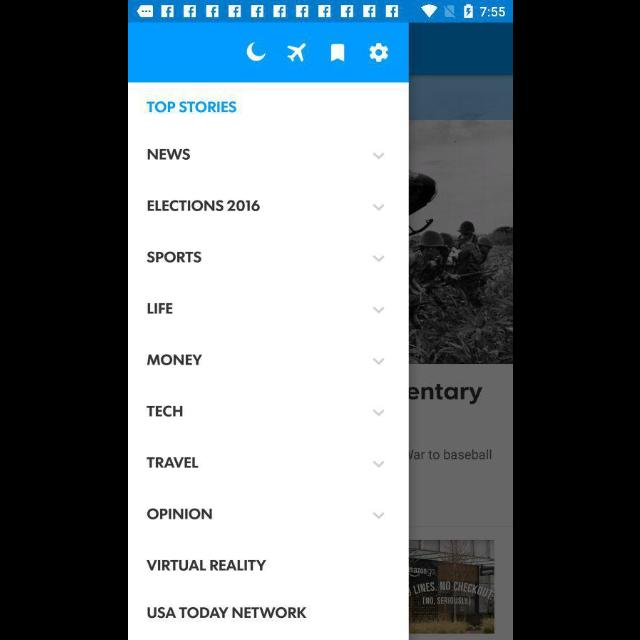icon: (368, 43, 388, 63), (330, 44, 344, 64), (372, 460, 384, 470), (372, 512, 384, 520), (372, 409, 384, 417), (372, 358, 384, 366), (372, 306, 384, 314), (372, 255, 384, 263), (372, 204, 384, 212), (372, 152, 384, 160)
image: (246, 42, 266, 64), (286, 44, 306, 64)
panel: (128, 24, 408, 640)
text: (147, 606, 307, 620), (146, 559, 266, 571), (146, 200, 260, 212), (146, 100, 237, 114), (146, 508, 212, 520), (146, 354, 202, 366), (146, 252, 202, 264), (146, 457, 198, 469), (146, 149, 190, 161), (146, 404, 182, 418), (146, 303, 174, 315)
uppertaskbar: (128, 1, 512, 23)
